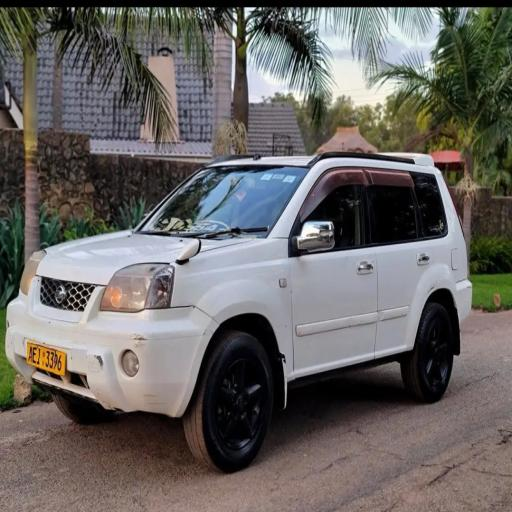number-plates: (26, 339, 65, 373)
